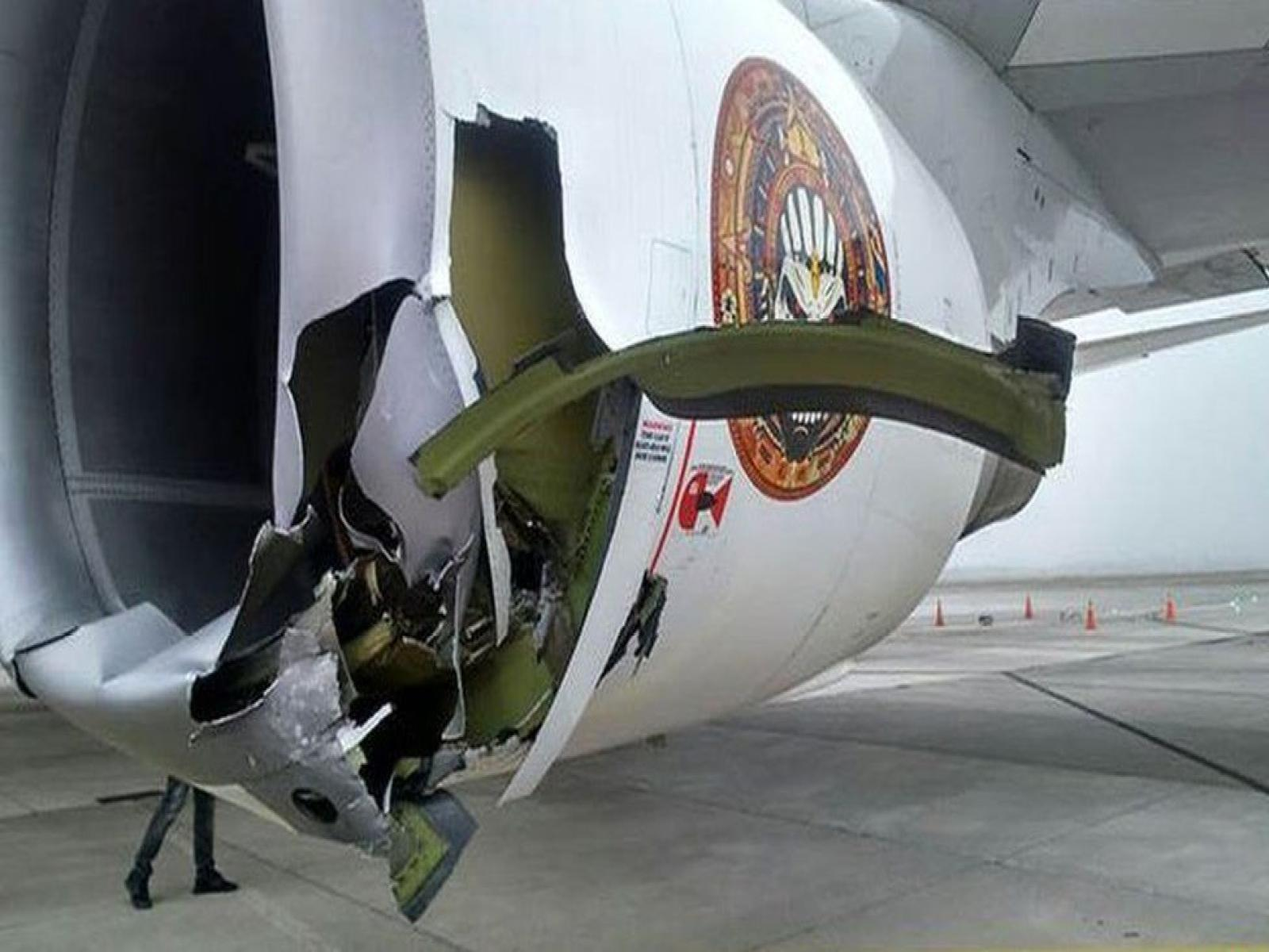Engine_damage: (16, 506, 393, 848), (411, 317, 1075, 492), (289, 281, 481, 775), (451, 108, 595, 390), (352, 297, 481, 581), (387, 792, 476, 921)
